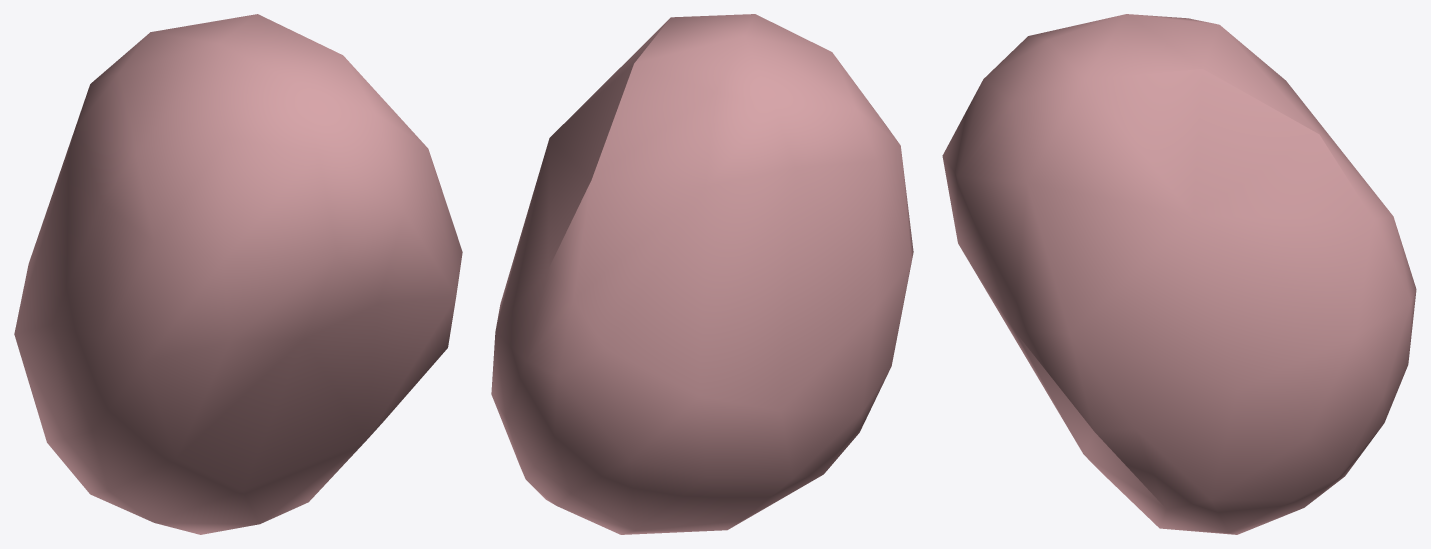
Rendered from fma55560_fj3676.glb.
3 renders of one model, left to right at view 1: azimuth 30°, elevation 25°; view 2: azimuth 150°, elevation 25°; view 3: azimuth 270°, elevation 25°, orthographic. The views are drawn at different scales.
Visible parts, largest first — view 1: FMA55560_FJ3676; view 2: FMA55560_FJ3676; view 3: FMA55560_FJ3676.
Part boxes in pixels (box(x1,y1,x2,y2)): FMA55560_FJ3676: box(14, 14, 462, 534); FMA55560_FJ3676: box(491, 14, 913, 534); FMA55560_FJ3676: box(942, 14, 1416, 534).
Bounding box in the file's own units: 0.00524 × 0.00684 × 0.00613.
